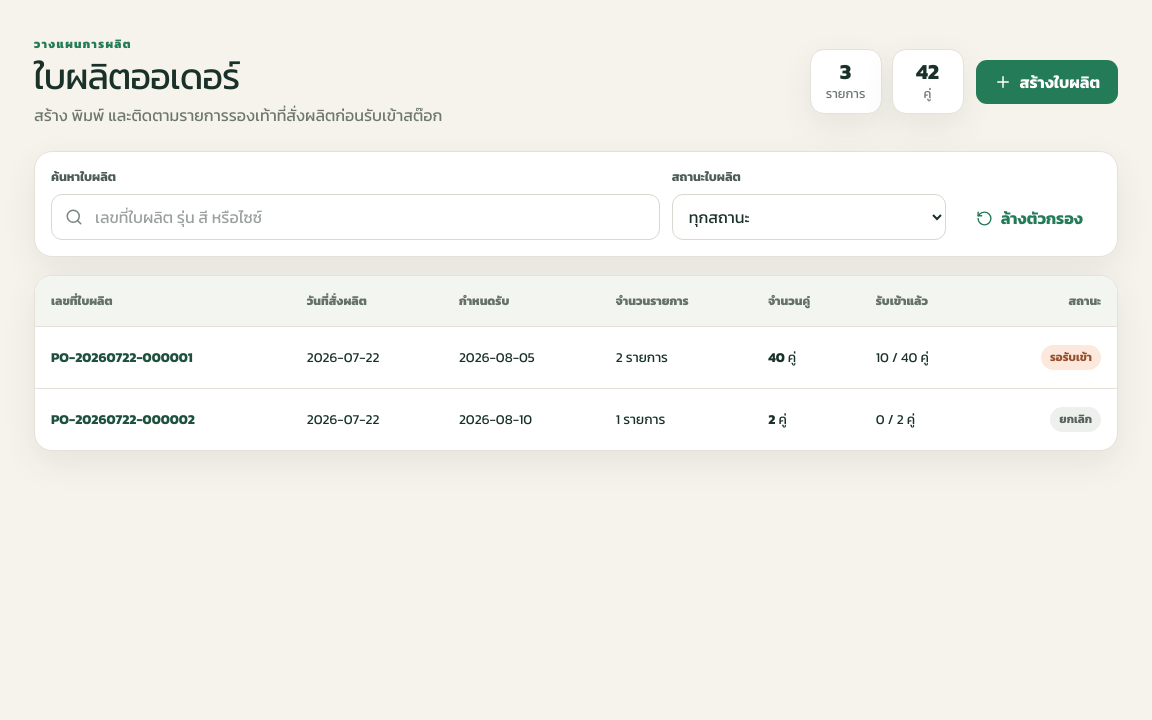
Test: ProductionOrdersPage › searches snapshotted lines, filters status, and displays pair totals
Expected: the heading "ใบผลิตออเดอร์" is shown, x1=34 y1=49 x2=239 y2=103
Expected: the text "PO-20260722-000001" is shown, x1=51 y1=347 x2=193 y2=367
Type "Paris Black" into the search field labelled "ค้นหาใบผลิต" at (371, 217), box x1=83 y1=195 x2=659 y2=239
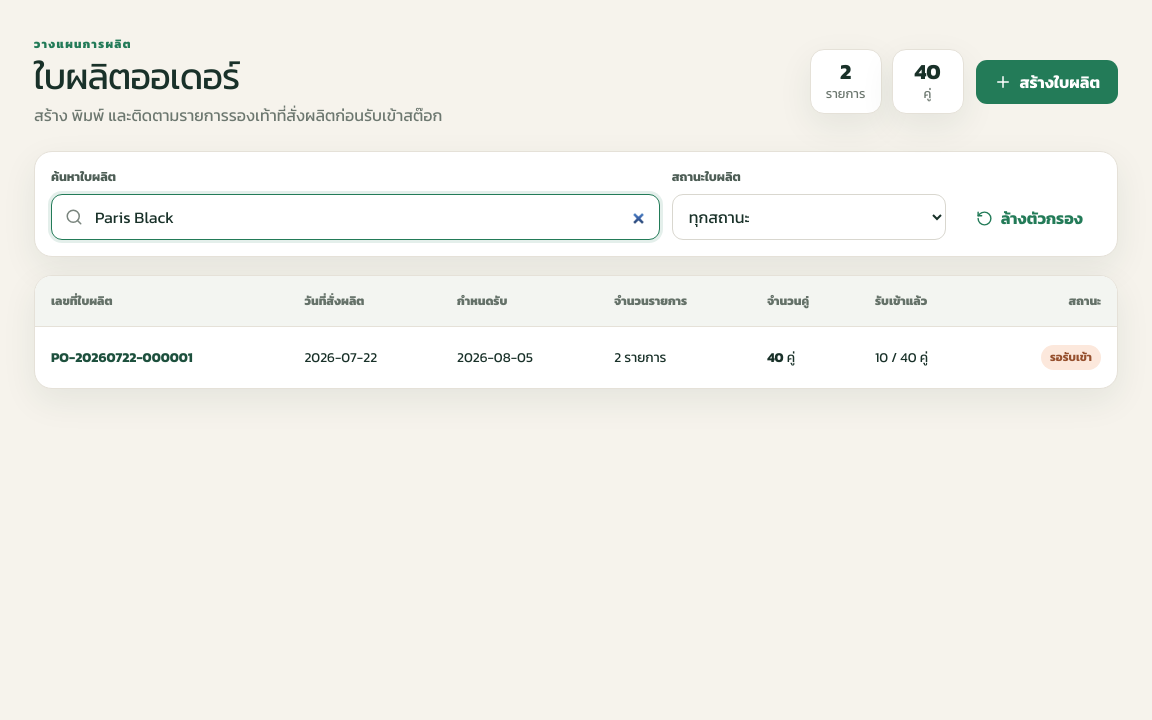
Expected: the column heading "รับเข้าแล้ว" is shown, x1=859 y1=276 x2=983 y2=326
Expected: the text "40" next to "สร้างใบผลิต" is shown, x1=914 y1=55 x2=941 y2=88
Expected: the link "PO-20260722-000002" is gone
Select "ยกเลิก" in the dropdown labelled "สถานะใบผลิต" at (809, 217), box x1=673 y1=195 x2=945 y2=239
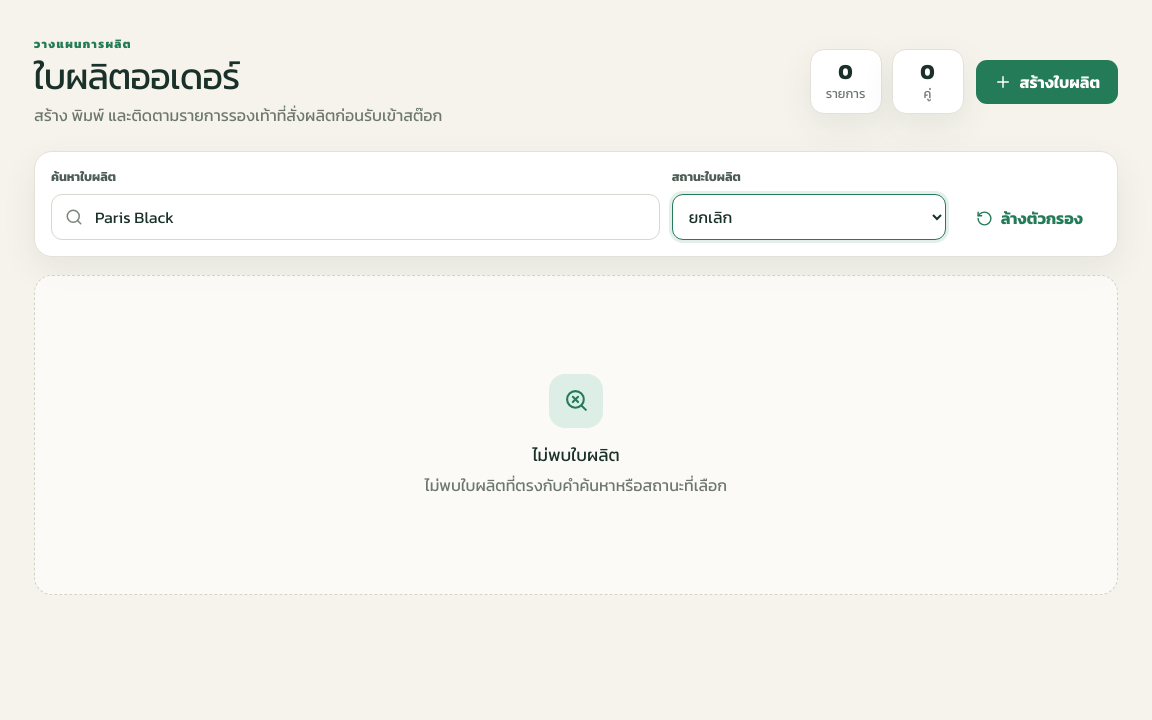
Expected: the message "ไม่พบใบผลิต" is shown, x1=34 y1=275 x2=1118 y2=595
